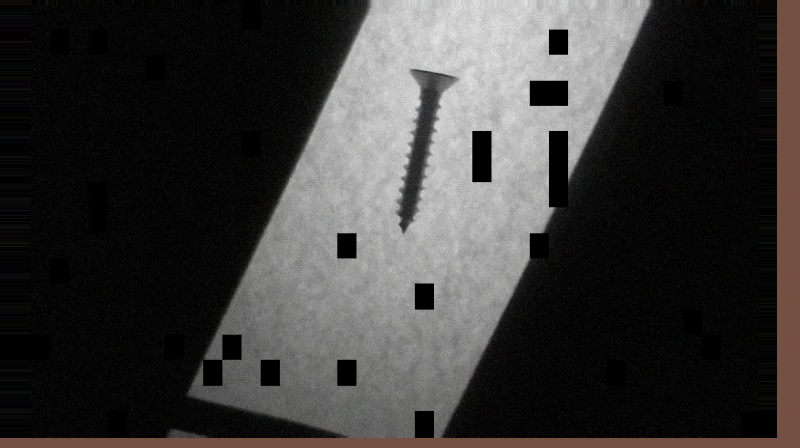S001: (394, 62, 462, 235)
